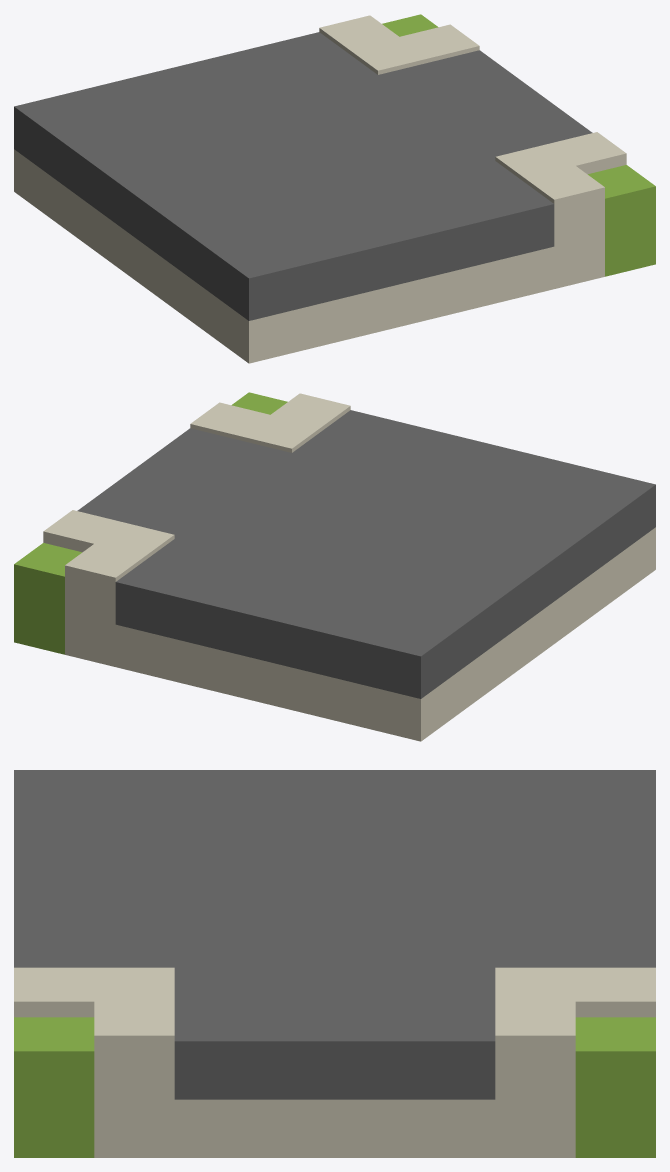
The model's file is road_turn.obj.
3 views of the same model, one above another, from view 1: azimuth 30°, elevation 25°; view 2: azimuth 150°, elevation 25°; view 3: azimuth 270°, elevation 25° (orthographic). The views are drawn at different scales.
Parts seen in each view (by area): view 1: Mesh1_Group1_Model.029; view 2: Mesh1_Group1_Model.029; view 3: Mesh1_Group1_Model.029.
Boxes of the visible parts, x1,y1,x2,y2 form: Mesh1_Group1_Model.029: (14, 14, 655, 363); Mesh1_Group1_Model.029: (14, 392, 655, 741); Mesh1_Group1_Model.029: (14, 770, 655, 1157).
Bounding box in the file's own units: 3 × 0.63 × 3.
